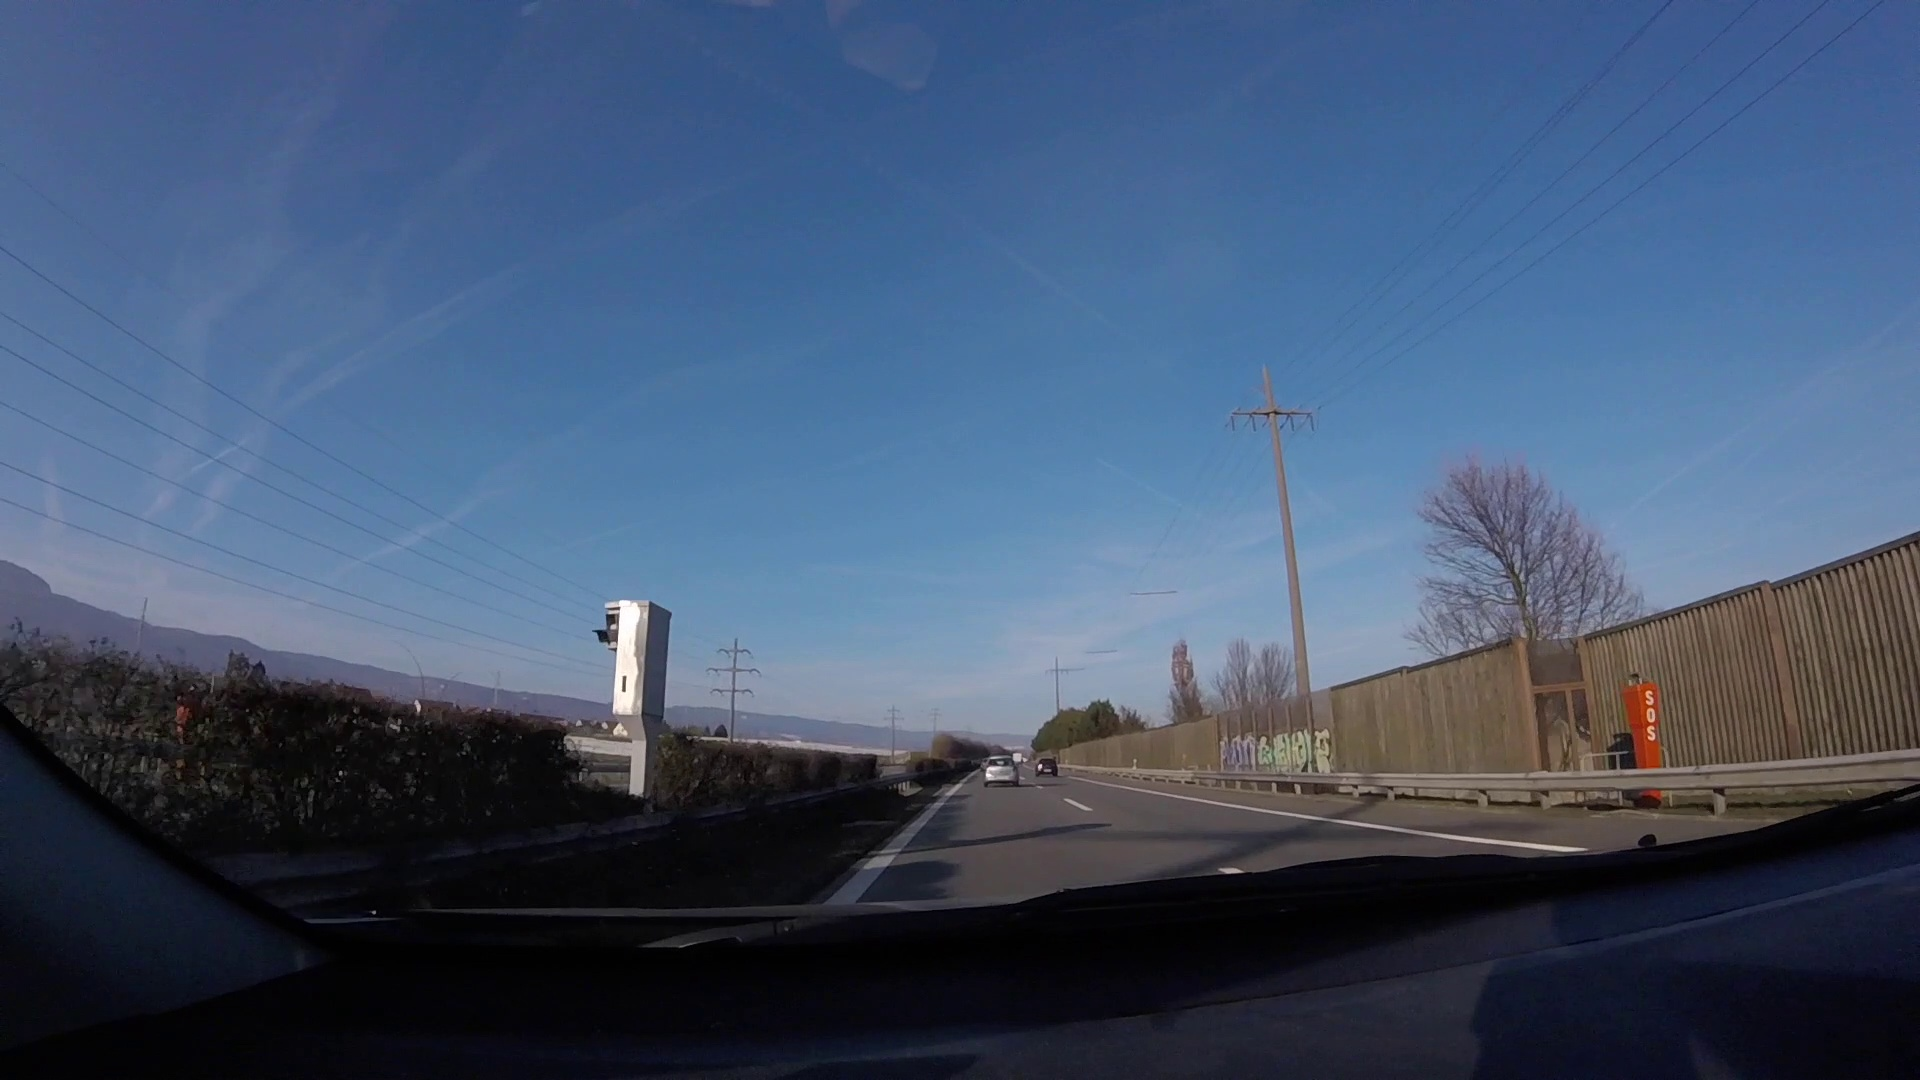radar: (592, 597, 675, 807)
